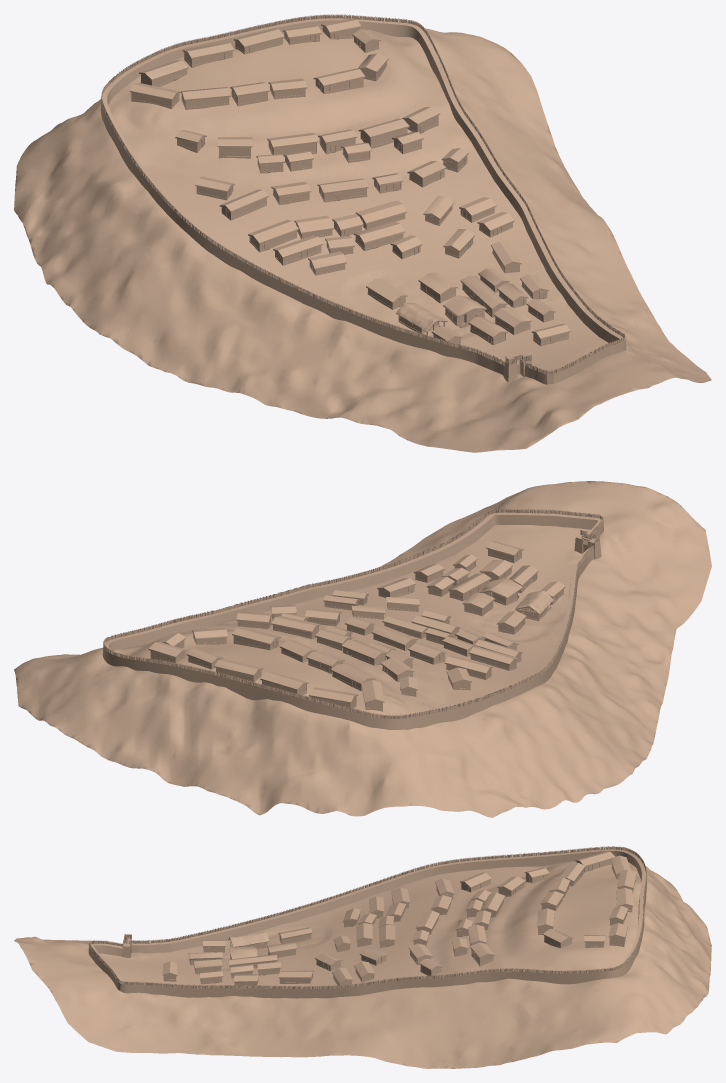
The model's file is Fort.glb.
The picture shows the model from 3 angles, top to bottom: view 1: azimuth 30°, elevation 25°; view 2: azimuth 150°, elevation 25°; view 3: azimuth 270°, elevation 25°; orthographic projection. The views are drawn at different scales.
Visible parts, largest first — view 1: Fort.001; view 2: Fort.001; view 3: Fort.001.
Part boxes in pixels (x1,y1,x2,y2): Fort.001: [14, 14, 711, 452]; Fort.001: [14, 481, 711, 817]; Fort.001: [14, 846, 711, 1068].
Bounding box in the file's own units: 1.12 × 0.3114 × 1.62.
